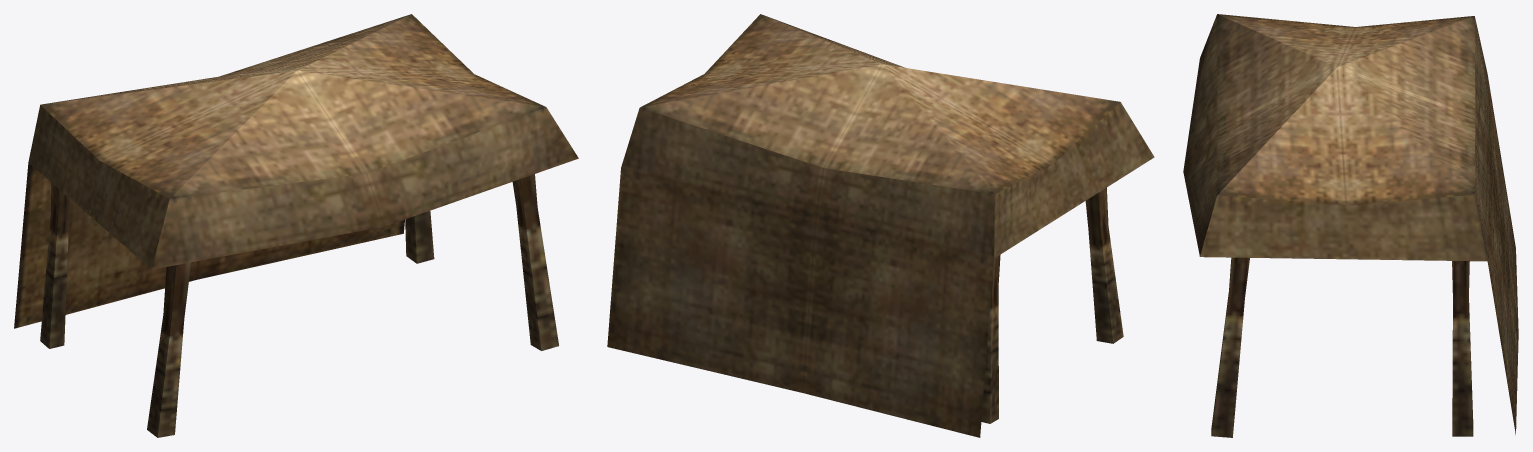
The model's file is b_general_obj_06.glb.
The picture shows the model from 3 angles, left to right: view 1: azimuth 30°, elevation 25°; view 2: azimuth 150°, elevation 25°; view 3: azimuth 270°, elevation 25°; orthographic projection. The views are drawn at different scales.
Parts seen in each view (by area): view 1: Object02; view 2: Object02; view 3: Object02.
Part boxes in pixels (x1,y1,x2,y2): Object02: (14, 14, 578, 437); Object02: (607, 14, 1154, 437); Object02: (1183, 14, 1518, 437).
Bounding box in the file's own units: 5.57 × 3.49 × 3.84.
Materials: 1 (1 with a texture image).
